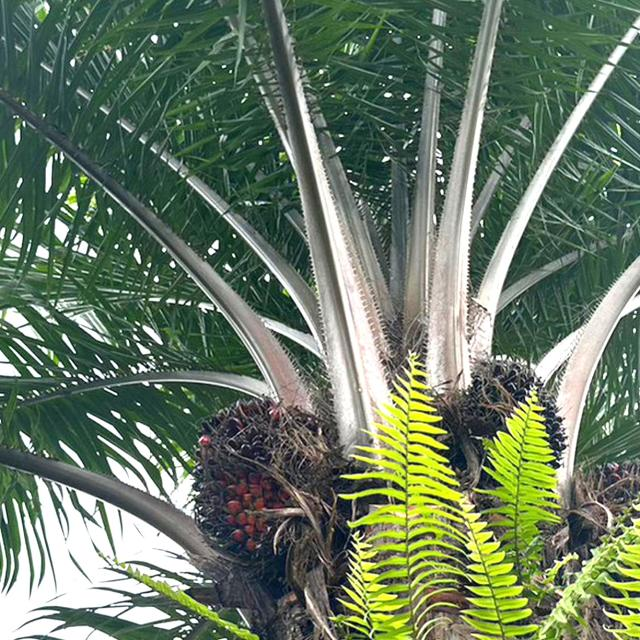ripe: (190, 398, 356, 578), (438, 342, 569, 478)
